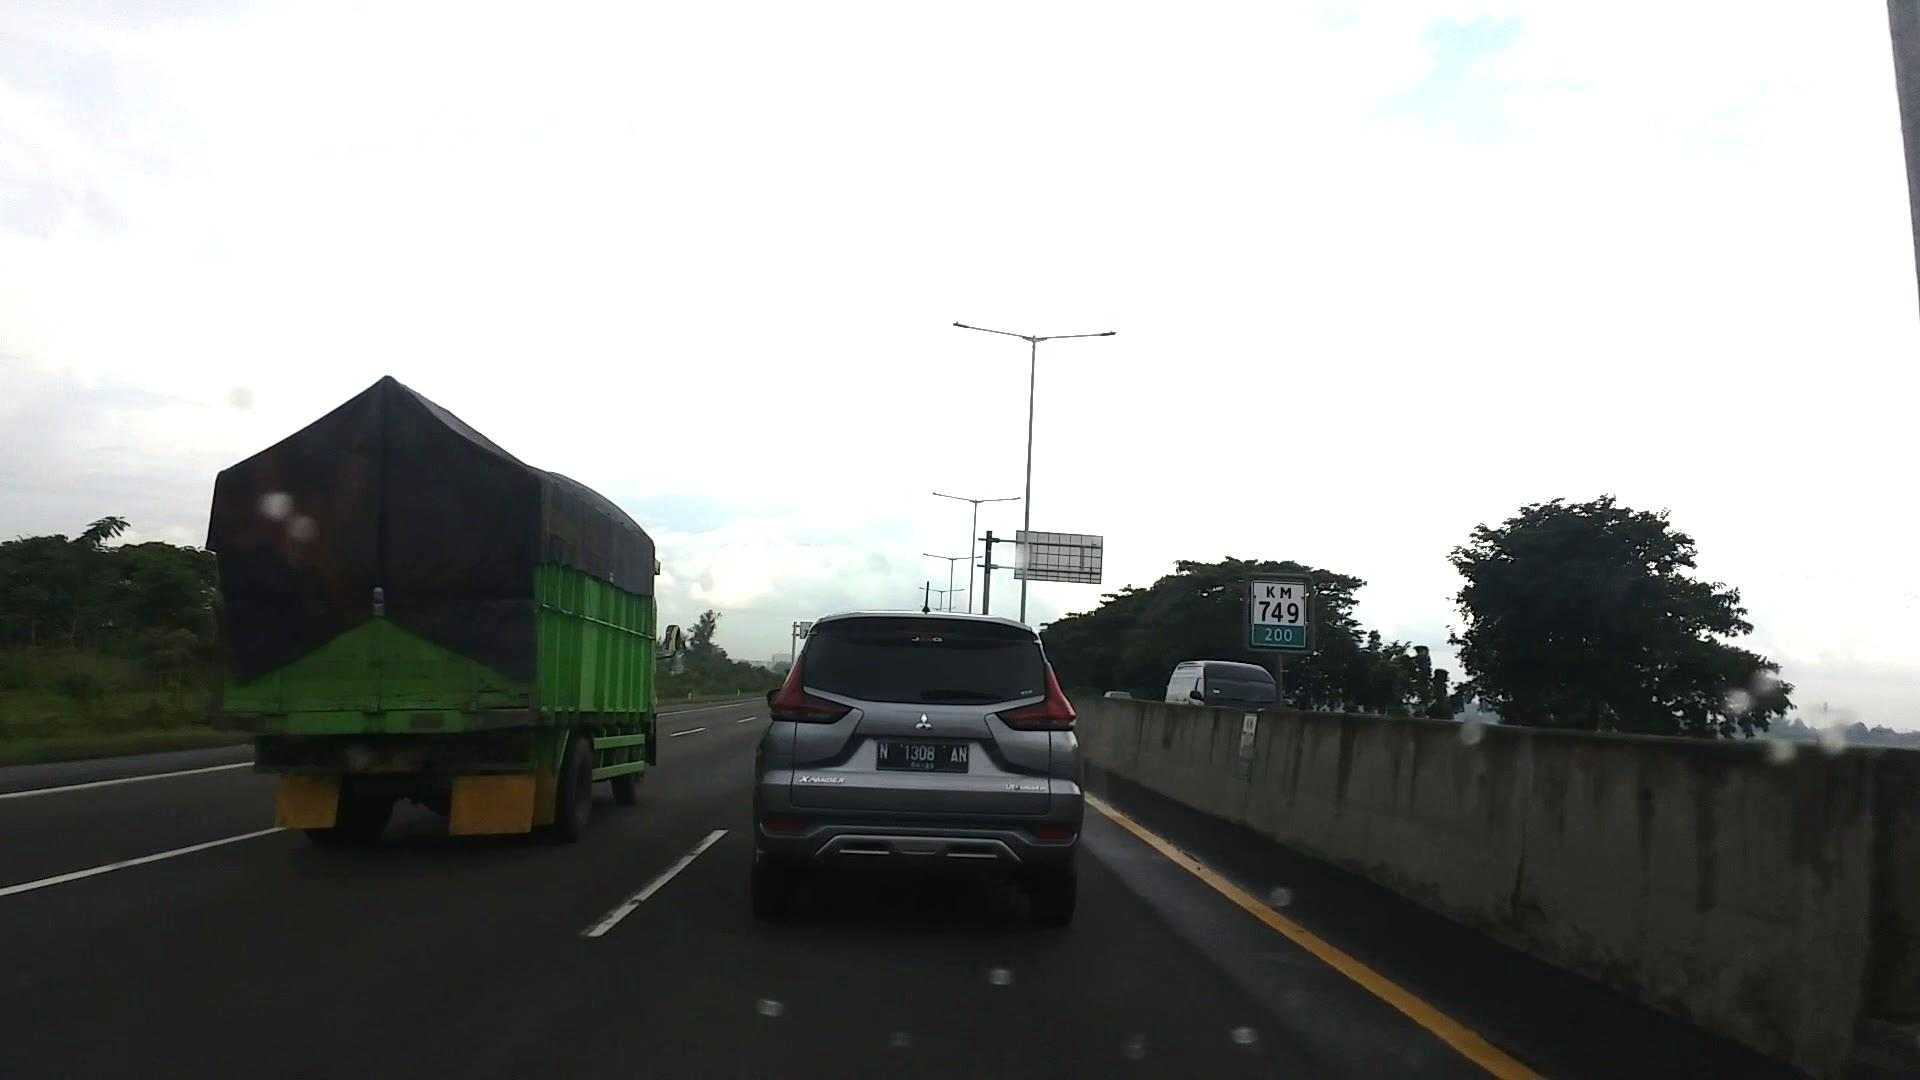plate_positive: (877, 741, 969, 771)
